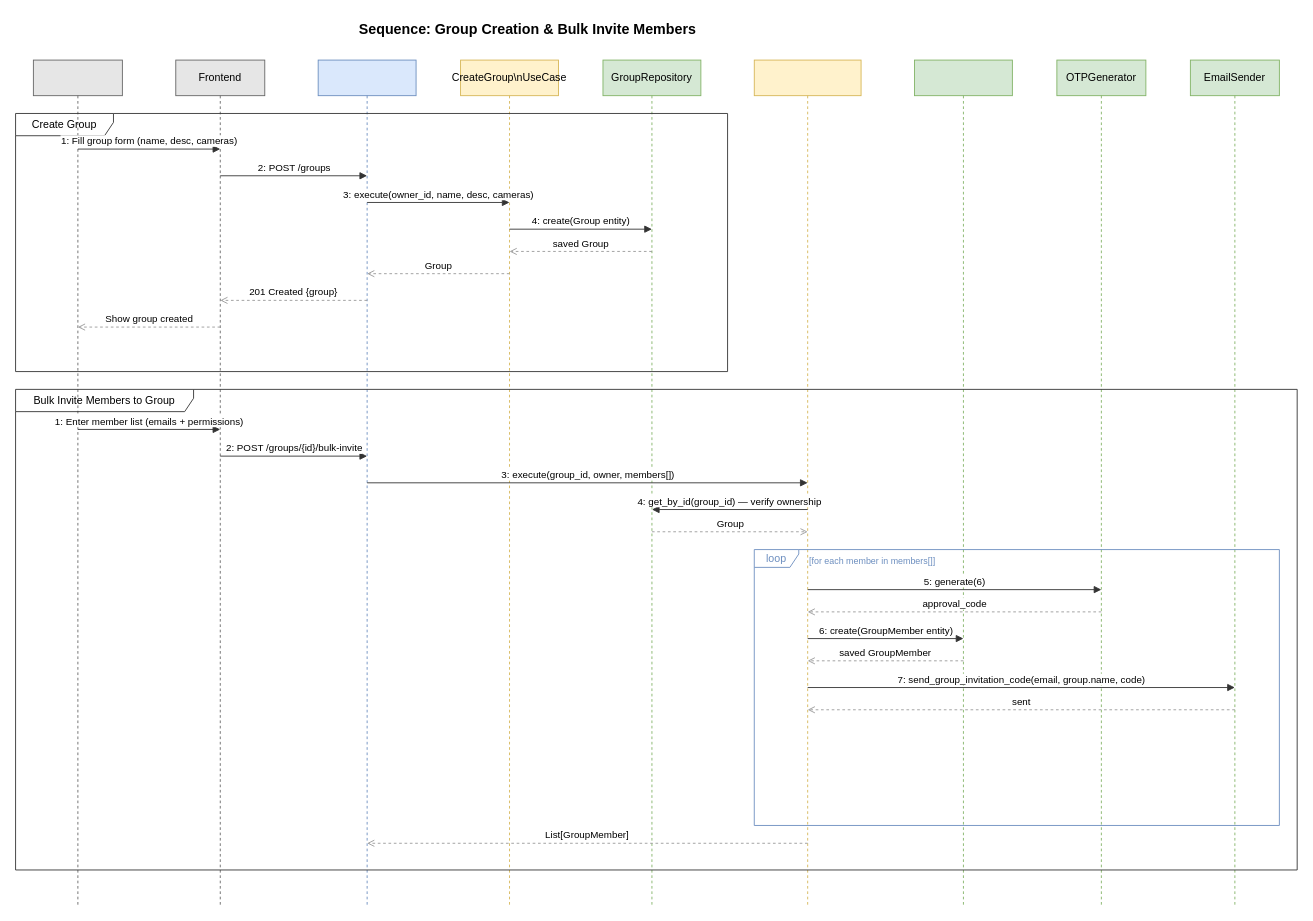
The diagram is 1313 pixels wide and 921 high, and some of its shapes have lost their labels. Each missing label, with the box of its shape:
BulkInviteGroup\nMembersUseCase: (753, 59, 861, 906)
GroupController: (317, 59, 416, 906)
GroupMember\nRepository: (914, 59, 1012, 906)
Owner: (32, 59, 122, 906)
